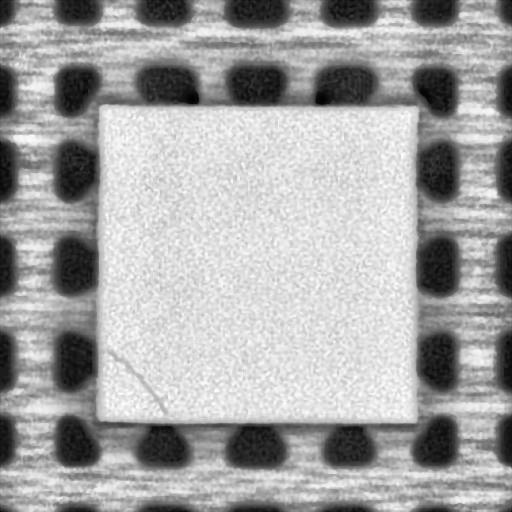DIE_CRACK: (106, 349, 168, 412)
